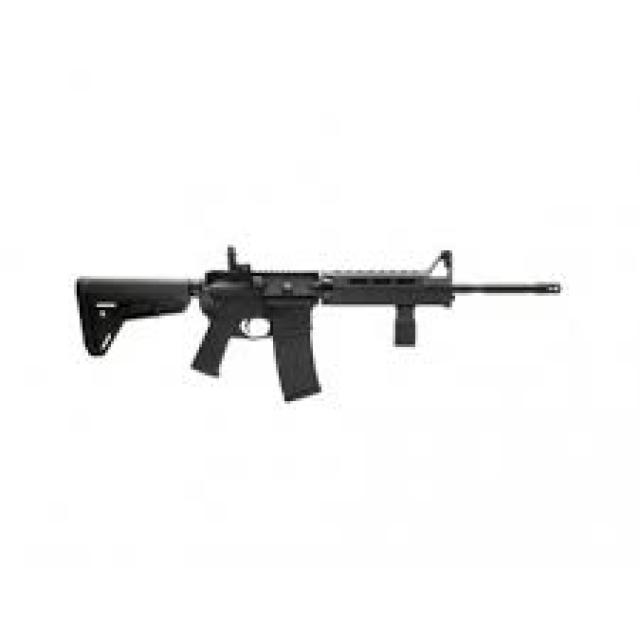rifle: (68, 244, 565, 418)
